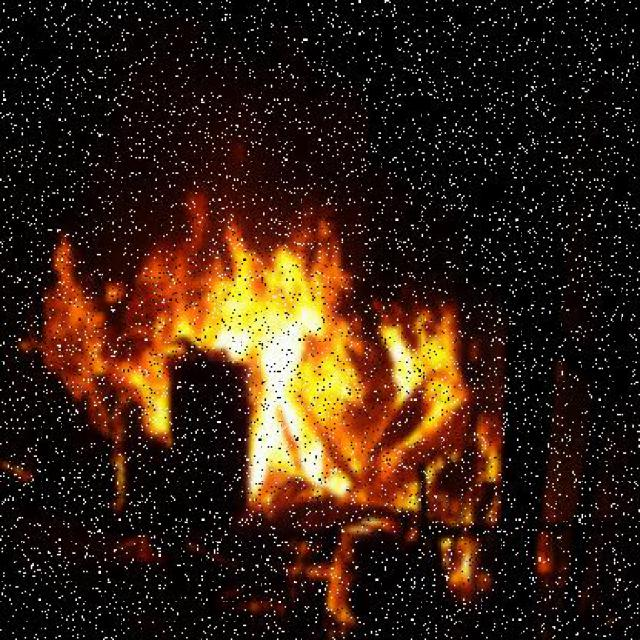fire: (43, 150, 494, 498)
